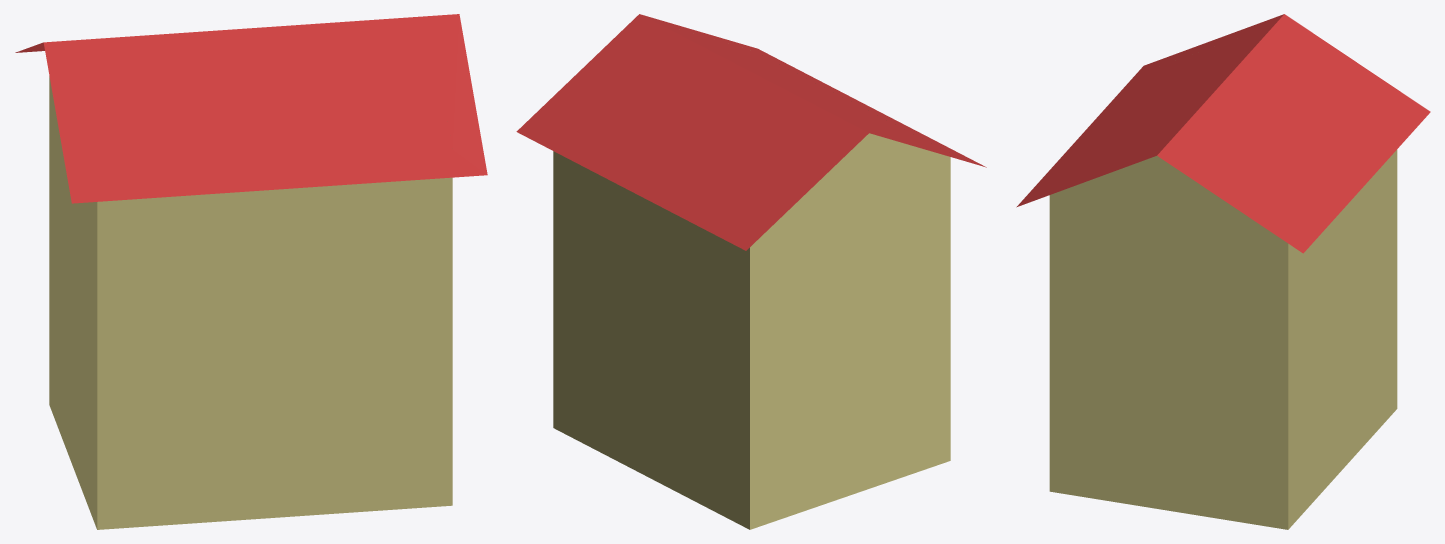
The picture shows the model from 3 angles, left to right: view 1: azimuth 30°, elevation 25°; view 2: azimuth 150°, elevation 25°; view 3: azimuth 270°, elevation 25°; orthographic projection. The views are drawn at different scales.
Bounding box in the file's own units: 17.06 × 15.92 × 15.46.
